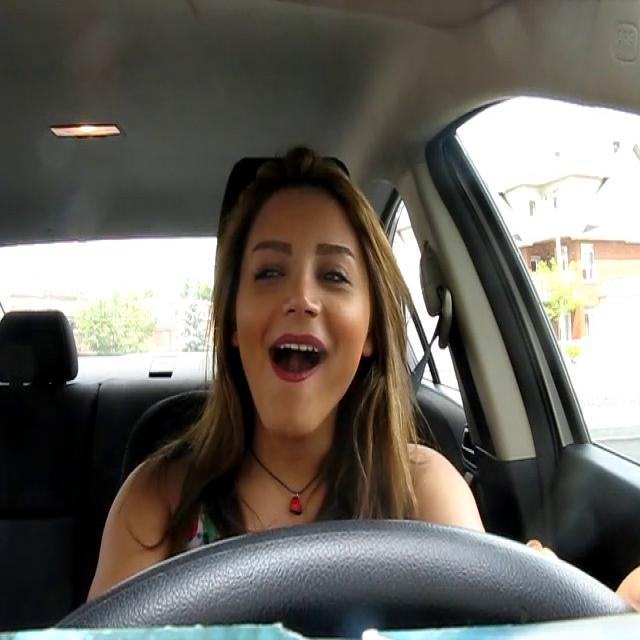open-mouth: (265, 328, 331, 386)
